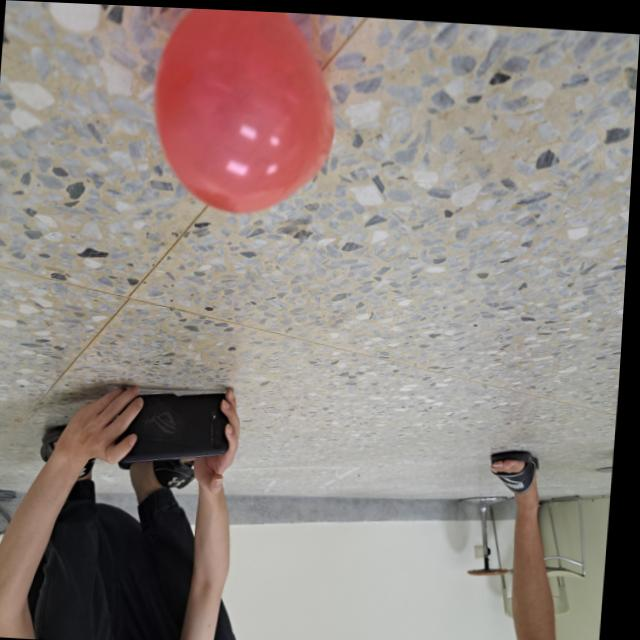red: (146, 5, 341, 214)
